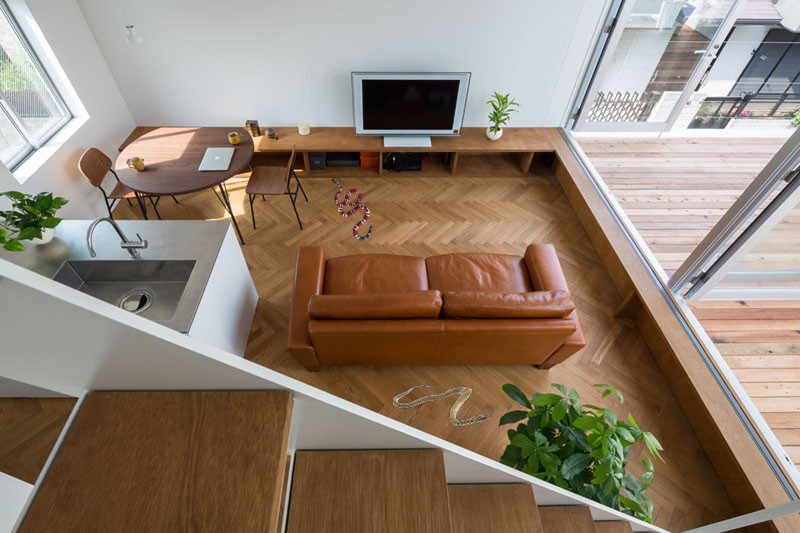snake: (391, 381, 490, 426), (328, 178, 373, 243)
